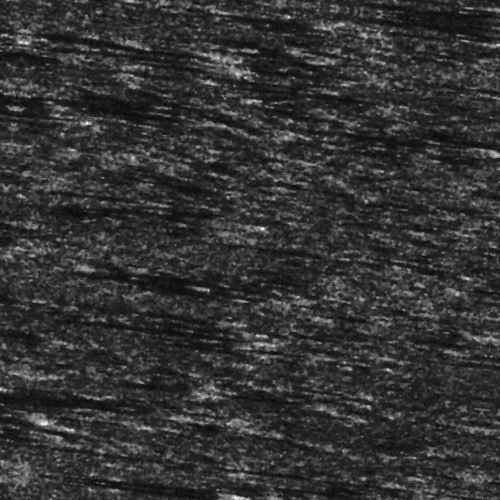object: (157, 330, 376, 347), (13, 132, 118, 147), (40, 437, 103, 454), (144, 56, 237, 65), (338, 80, 401, 91), (56, 2, 109, 13), (234, 492, 287, 497), (289, 16, 320, 21), (0, 73, 49, 76)
shadow: (59, 330, 266, 347), (201, 80, 369, 91), (0, 56, 190, 65), (0, 437, 71, 454), (0, 132, 65, 147), (0, 2, 82, 13), (108, 492, 260, 497), (247, 16, 304, 21)
